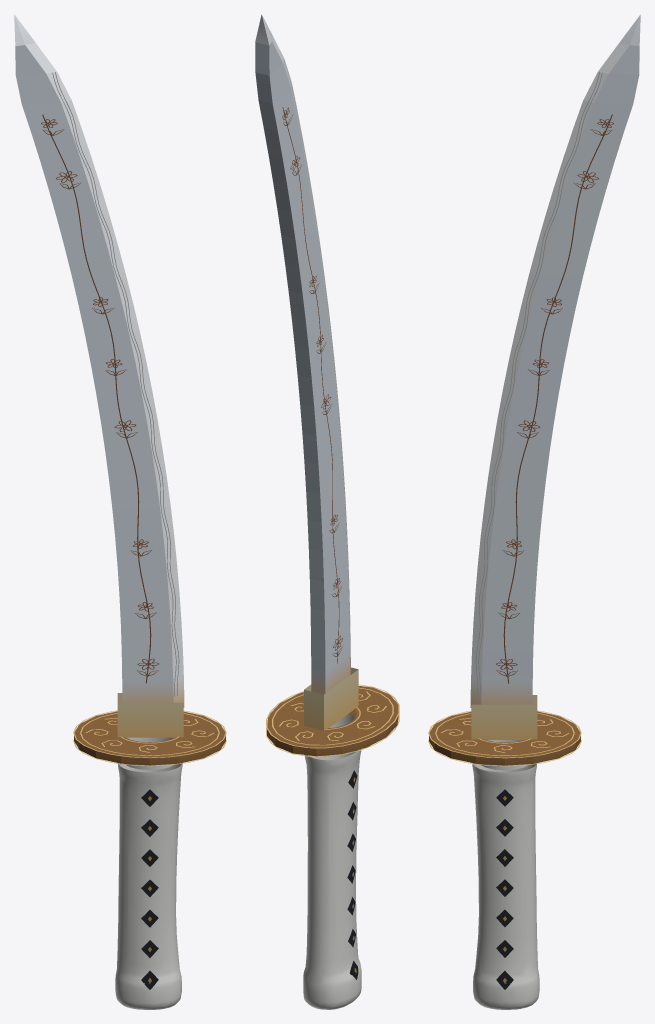
Rendered from weapon_blade_06.glb.
3 views of the same model, side by side, from view 1: azimuth 90°, elevation 25°; view 2: azimuth 150°, elevation 25°; view 3: azimuth 270°, elevation 25° (orthographic). The views are drawn at different scales.
Parts seen in each view (by area): view 1: weapon; view 2: weapon; view 3: weapon.
Part boxes in pixels (x1=…): weapon: x1=14, y1=14, x2=226, y2=1009; weapon: x1=255, y1=14, x2=399, y2=1009; weapon: x1=428, y1=14, x2=640, y2=1009.
Size of the model in its own units: 0.0854 by 0.784 by 0.1528.
